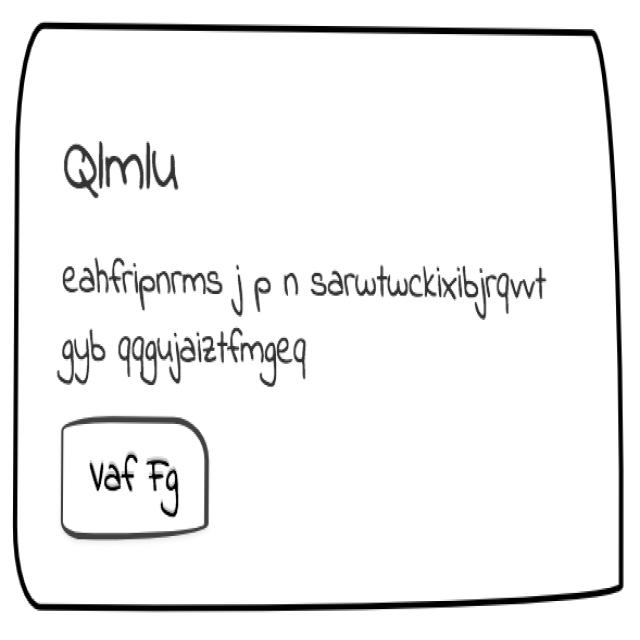Button: (50, 414, 217, 552)
Heading 6: (39, 260, 552, 382), (56, 136, 197, 214)
